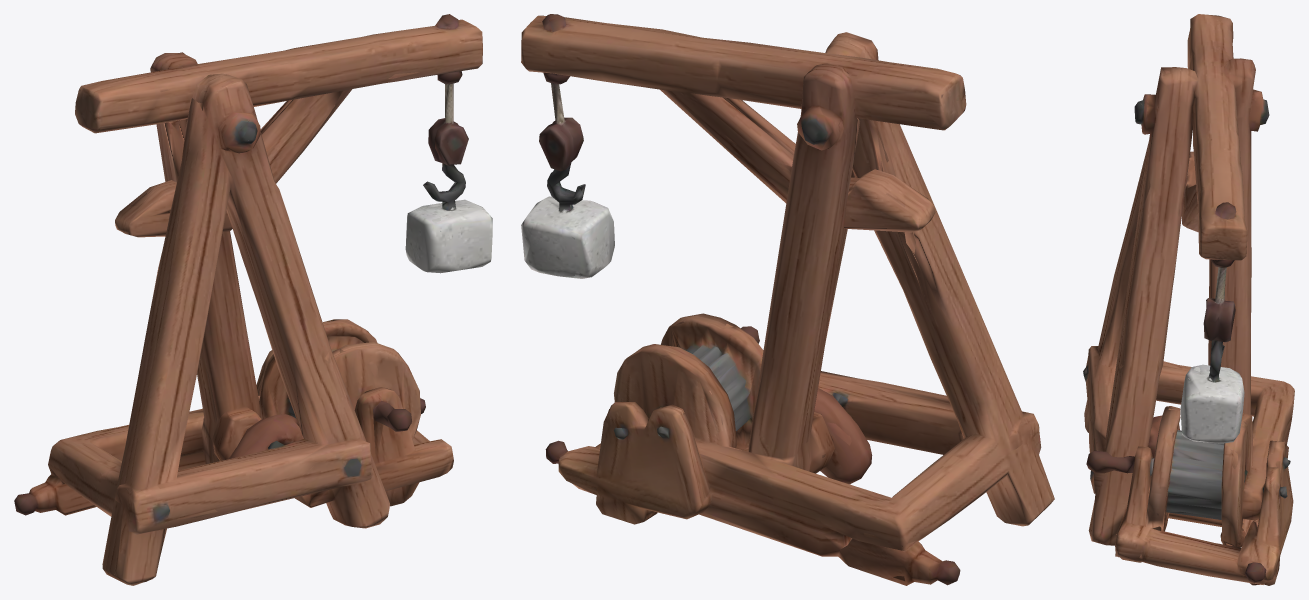
Rendered from sieve-hoist.glb.
3 renders of one model, left to right at view 1: azimuth 30°, elevation 25°; view 2: azimuth 150°, elevation 25°; view 3: azimuth 270°, elevation 25°, orthographic. The views are drawn at different scales.
Size of the model in its own units: 2.77 by 2.8 by 1.24.
1 material, 1 textured.
